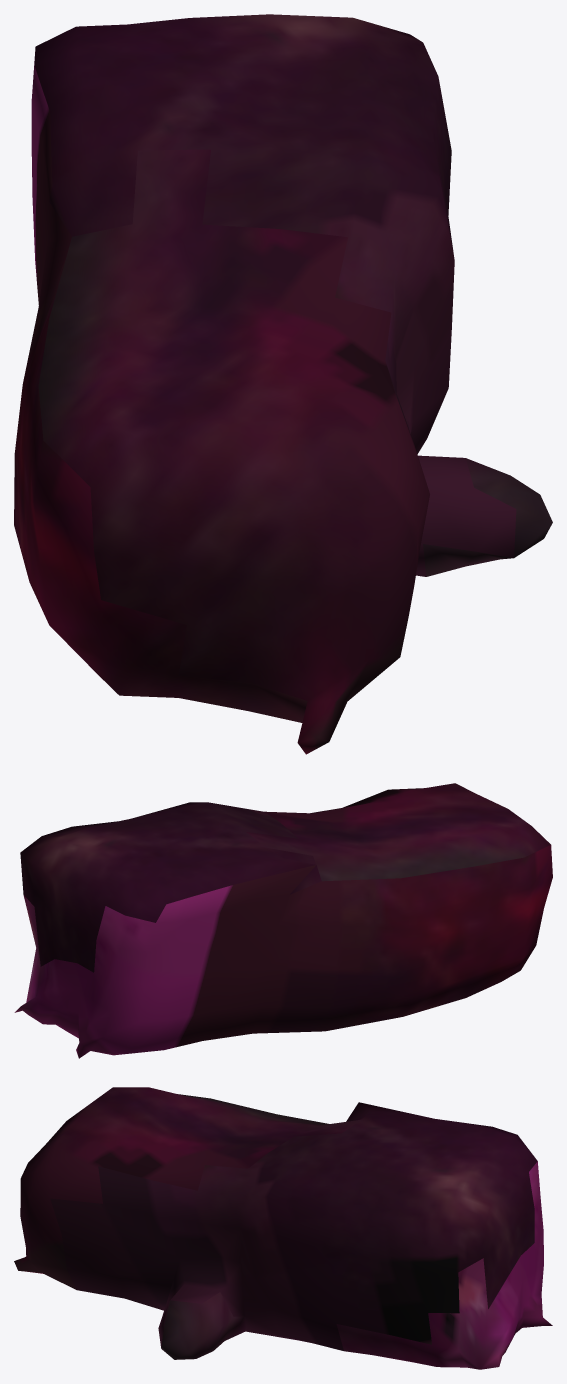
File: terrain-abyss-chancel-object-069.obj
3 renders of one model, top to bottom at view 1: azimuth 30°, elevation 25°; view 2: azimuth 150°, elevation 25°; view 3: azimuth 270°, elevation 25°, orthographic. The views are drawn at different scales.
Visible parts, largest first — view 1: terrain-abyss-chancel-object-069; view 2: terrain-abyss-chancel-object-069; view 3: terrain-abyss-chancel-object-069.
Part boxes in pixels (x1,y1,x2,y2): terrain-abyss-chancel-object-069: [14, 14, 552, 754]; terrain-abyss-chancel-object-069: [14, 783, 552, 1058]; terrain-abyss-chancel-object-069: [14, 1087, 552, 1369].
Size of the model in its own units: 0.1201 by 0.0626 by 0.1564.
